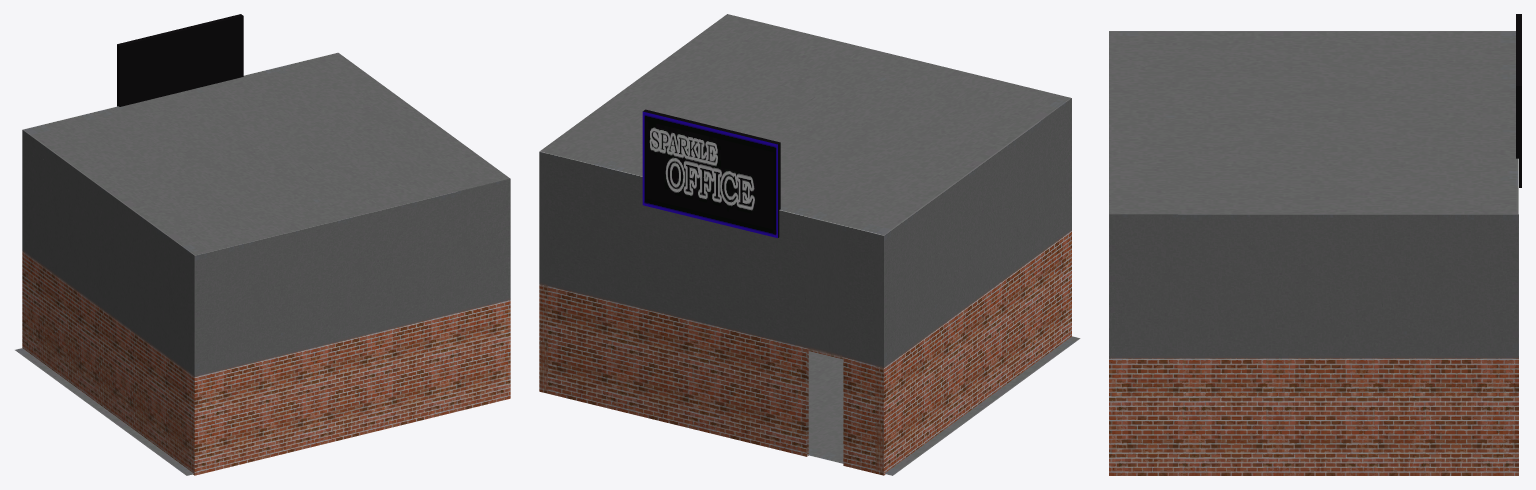
The model's file is Walls.fbx.
3 renders of one model, left to right at view 1: azimuth 30°, elevation 25°; view 2: azimuth 150°, elevation 25°; view 3: azimuth 270°, elevation 25°, orthographic. The views are drawn at different scales.
Parts seen in each view (by area): view 1: Walls; view 2: Walls; view 3: Walls.
Boxes of the visible parts, x1=… form: Walls: x1=15, y1=14, x2=510, y2=475; Walls: x1=539, y1=14, x2=1080, y2=475; Walls: x1=1109, y1=14, x2=1521, y2=475.
Size of the model in its own units: 14.29 by 11.85 by 13.27.
